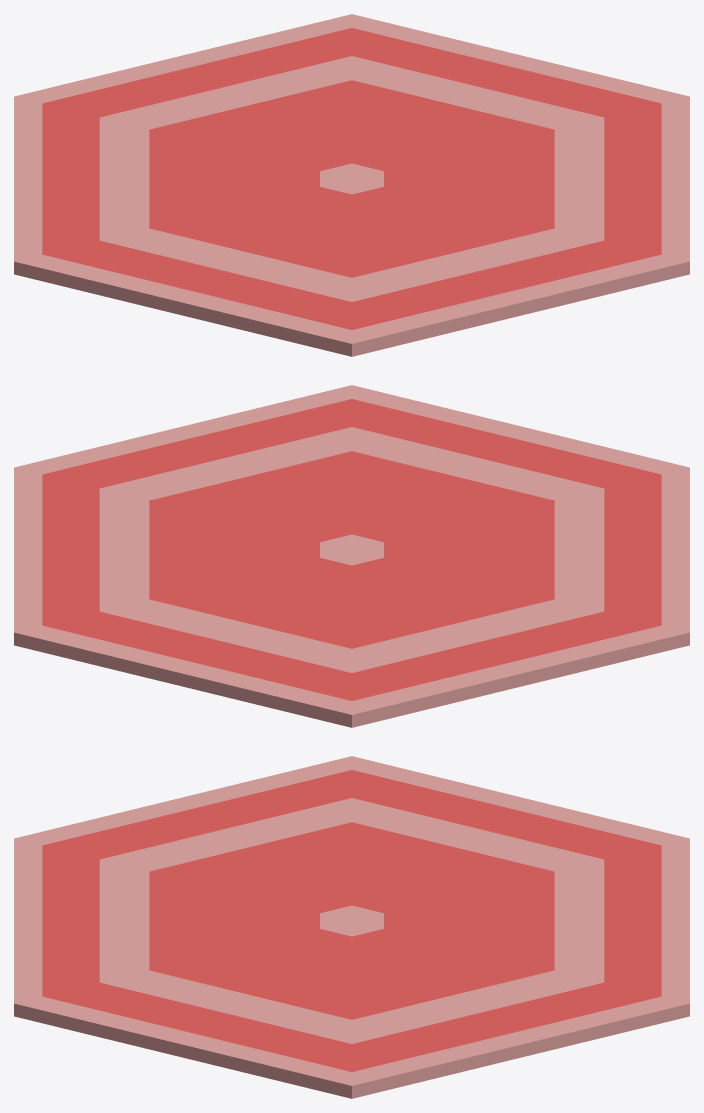
File: oda_tavan.fbx
3 renders of one model, top to bottom at view 1: azimuth 30°, elevation 25°; view 2: azimuth 150°, elevation 25°; view 3: azimuth 270°, elevation 25°, orthographic.
Parts seen in each view (by area): view 1: Circle.002; view 2: Circle.002; view 3: Circle.002.
Boxes of the visible parts, <box> form: Circle.002: <box>14,14,689,356</box>; Circle.002: <box>14,385,689,727</box>; Circle.002: <box>14,756,689,1098</box>.
Size of the model in its own units: 8445 by 407 by 7314.
